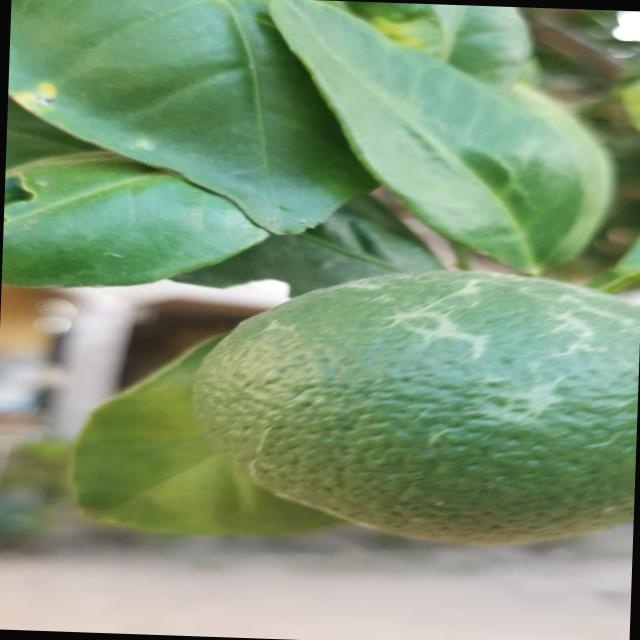agrume: (188, 254, 640, 555)
